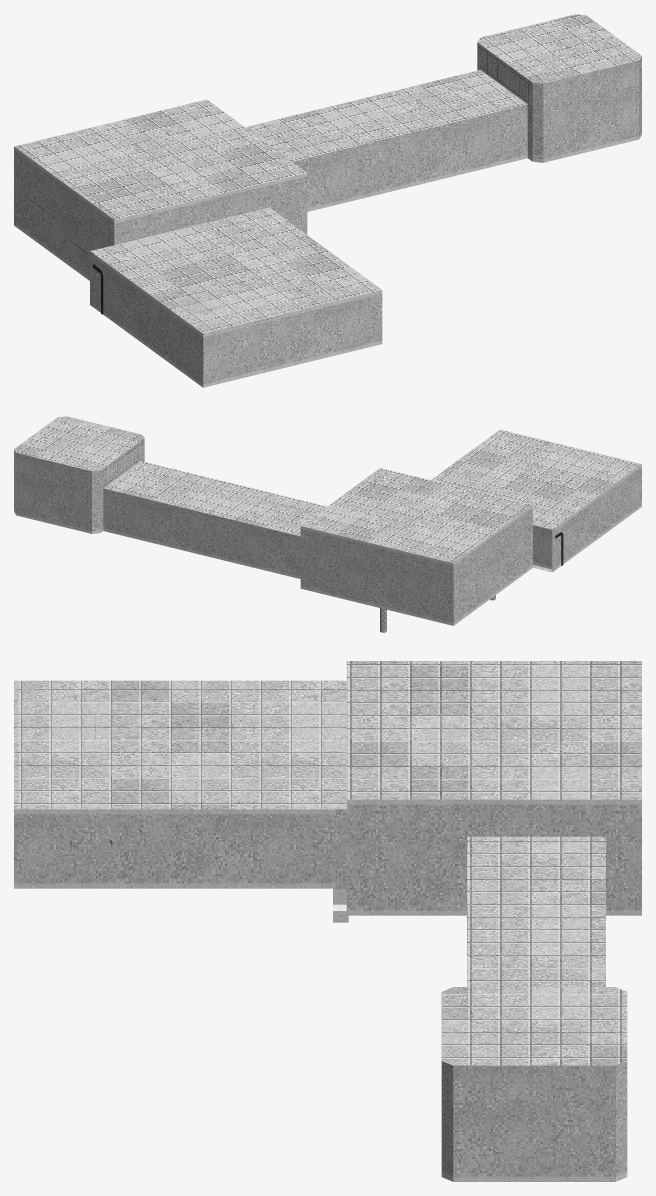
The model's file is portal.glb.
3 views of the same model, one above another, from view 1: azimuth 30°, elevation 25°; view 2: azimuth 150°, elevation 25°; view 3: azimuth 270°, elevation 25° (orthographic). The views are drawn at different scales.
Parts seen in each view (by area): view 1: Room1, Cage; view 2: Room1; view 3: Room1, Cage.
Boxes of the visible parts, x1,y1,x2,y2 form: Room1: [14, 14, 641, 387]; Cage: [169, 289, 284, 380]; Room1: [14, 416, 641, 625]; Room1: [14, 661, 641, 1181]; Cage: [14, 686, 137, 738].
Size of the model in its own units: 53.81 by 11.15 by 33.8.
Materials: 12 (11 with a texture image).
